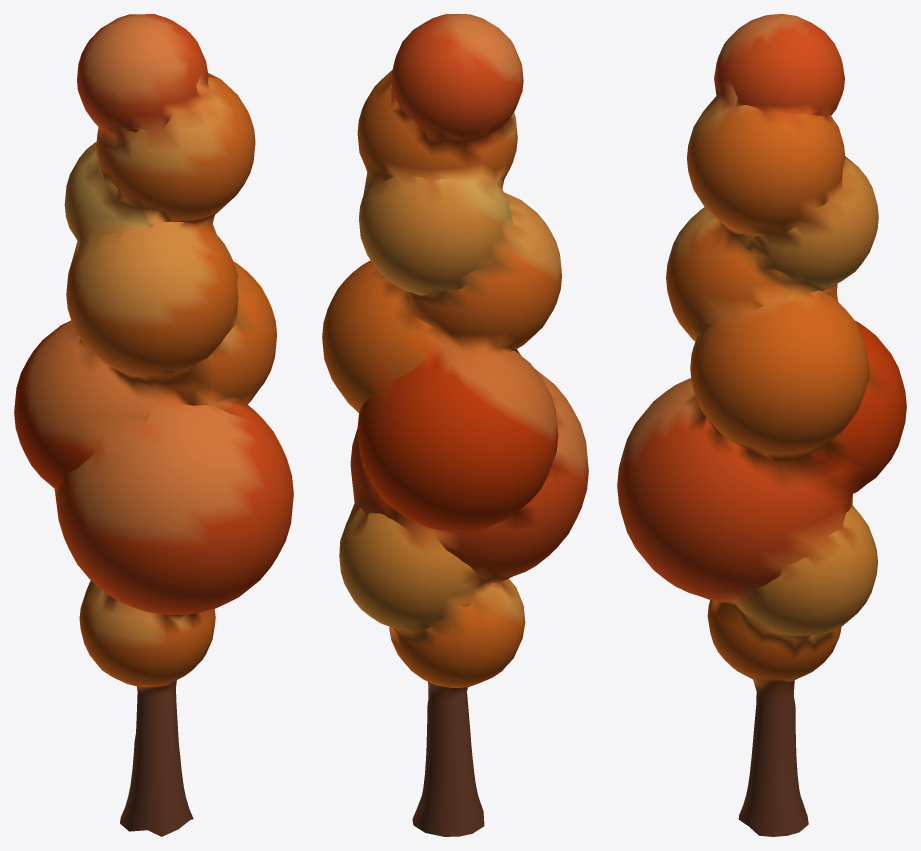
The model's file is tall-tree-117-lod1.obj.
The picture shows the model from 3 angles, left to right: view 1: azimuth 30°, elevation 25°; view 2: azimuth 150°, elevation 25°; view 3: azimuth 270°, elevation 25°; orthographic projection.
Visible parts, largest first — view 1: simplified; view 2: simplified; view 3: simplified.
Part boxes in pixels (box(x1,y1,x2,y2)): simplified: box(14, 14, 293, 836); simplified: box(322, 14, 588, 836); simplified: box(617, 14, 906, 836).
Size of the model in its own units: 202 by 690 by 228.
